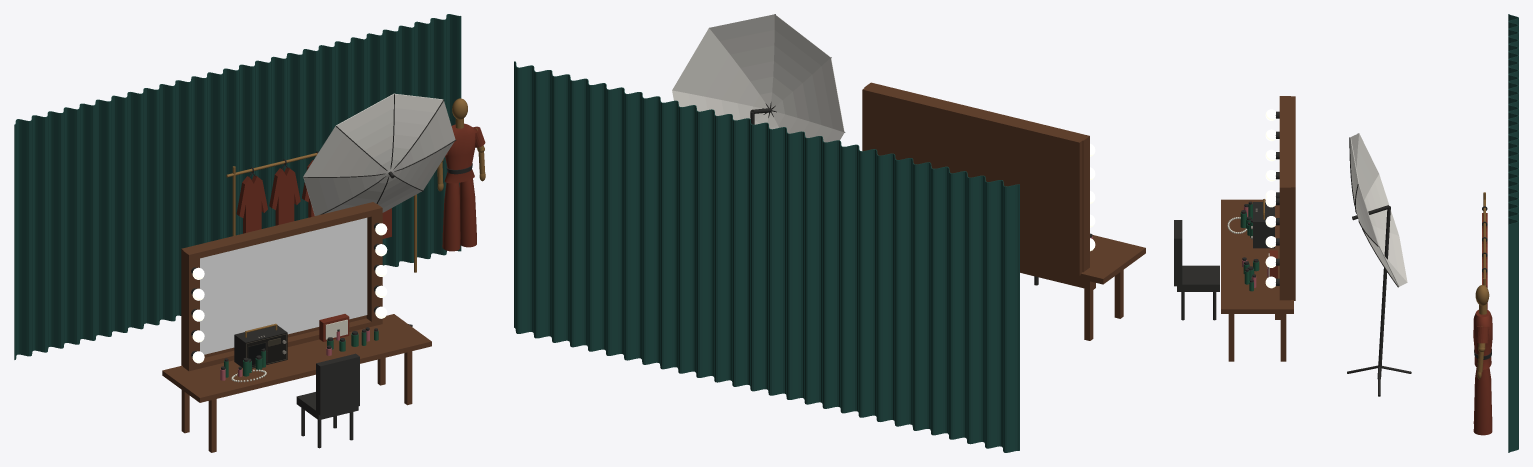
3 renders of one model, left to right at view 1: azimuth 30°, elevation 25°; view 2: azimuth 150°, elevation 25°; view 3: azimuth 270°, elevation 25°, orthographic. The views are drawn at different scales.
Parts seen in each view (by area): view 1: MIRROR_surface, UMBRELLA_finite_canopy_proxy, TABLE_top, CURTAIN_fold_proxy_0, CURTAIN_fold_proxy_1, CURTAIN_fold_proxy_5, CURTAIN_fold_proxy_4, CURTAIN_fold_proxy_7, CURTAIN_fold_proxy_8, CURTAIN_fold_proxy_2, CURTAIN_fold_proxy_3, CURTAIN_fold_proxy_6 (+34 smaller); view 2: MIRROR_backboard_inferred, UMBRELLA_finite_canopy_proxy, CURTAIN_fold_proxy_4, CURTAIN_fold_proxy_19, CURTAIN_fold_proxy_14, CURTAIN_fold_proxy_24, CURTAIN_fold_proxy_6, CURTAIN_fold_proxy_2, CURTAIN_fold_proxy_1, CURTAIN_fold_proxy_5, CURTAIN_fold_proxy_16, CURTAIN_fold_proxy_26 (+21 smaller); view 3: TABLE_top, UMBRELLA_finite_canopy_proxy, CURTAIN_fold_proxy_27, MIRROR_frame_1, MANNEQUIN_red_bifurcated_lower_proxy_1, CHAIR_seat_proxy, MIRROR_backboard_inferred, MIRROR_frame_horizontal_2.31, COSMETIC_case_body, MANNEQUIN_red_upper_clothing_proxy, UMBRELLA_stand_inferred, CHAIR_back_proxy.
Part boxes in pixels (<box>): MIRROR_surface: <box>200,217,367,354</box>; UMBRELLA_finite_canopy_proxy: <box>303,93,455,215</box>; TABLE_top: <box>162,314,431,402</box>; CURTAIN_fold_proxy_0: <box>14,119,30,359</box>; CURTAIN_fold_proxy_1: <box>30,115,46,355</box>; CURTAIN_fold_proxy_5: <box>94,99,110,340</box>; CURTAIN_fold_proxy_4: <box>78,103,94,344</box>; CURTAIN_fold_proxy_7: <box>126,92,142,332</box>; CURTAIN_fold_proxy_8: <box>142,88,158,328</box>; CURTAIN_fold_proxy_2: <box>46,111,62,351</box>; CURTAIN_fold_proxy_3: <box>62,107,78,347</box>; CURTAIN_fold_proxy_6: <box>110,95,126,336</box>; MIRROR_backboard_inferred: <box>862,87,1082,275</box>; UMBRELLA_finite_canopy_proxy: <box>672,14,844,142</box>; CURTAIN_fold_proxy_4: <box>929,162,947,435</box>; CURTAIN_fold_proxy_19: <box>658,96,676,369</box>; CURTAIN_fold_proxy_14: <box>748,118,766,391</box>; CURTAIN_fold_proxy_24: <box>568,74,586,347</box>; CURTAIN_fold_proxy_6: <box>893,153,911,426</box>; CURTAIN_fold_proxy_2: <box>965,171,983,444</box>; CURTAIN_fold_proxy_1: <box>983,176,1001,448</box>; CURTAIN_fold_proxy_5: <box>911,158,929,430</box>; CURTAIN_fold_proxy_16: <box>712,109,730,382</box>; CURTAIN_fold_proxy_26: <box>532,65,550,338</box>; TABLE_top: <box>1221,199,1293,313</box>; UMBRELLA_finite_canopy_proxy: <box>1350,133,1407,286</box>; CURTAIN_fold_proxy_27: <box>1508,217,1518,452</box>; MIRROR_frame_1: <box>1279,182,1290,300</box>; MANNEQUIN_red_bifurcated_lower_proxy_1: <box>1473,368,1492,435</box>; CHAIR_seat_proxy: <box>1177,265,1219,291</box>; MIRROR_backboard_inferred: <box>1289,96,1295,300</box>; MIRROR_frame_horizontal_2.31: <box>1279,101,1290,182</box>; COSMETIC_case_body: <box>1253,202,1274,248</box>; MANNEQUIN_red_upper_clothing_proxy: <box>1473,310,1492,369</box>; UMBRELLA_stand_inferred: <box>1377,206,1390,378</box>; CHAIR_back_proxy: <box>1174,220,1182,286</box>.
Size of the model in its own units: 6.29 by 3.34 by 4.25.
Materials: 13 (1 with a texture image).
